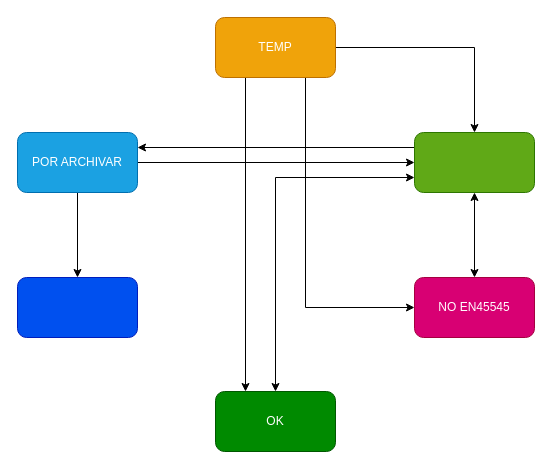
The diagram is 552 pixels wide and 469 high, and some of its shapes have lost their labels. The shapes that lost their labels are listed below. From the top down, each one's centre as x and y in pixels, then its label:
point 474,162: EN CURSO
point 77,307: ARCHIVADOS
